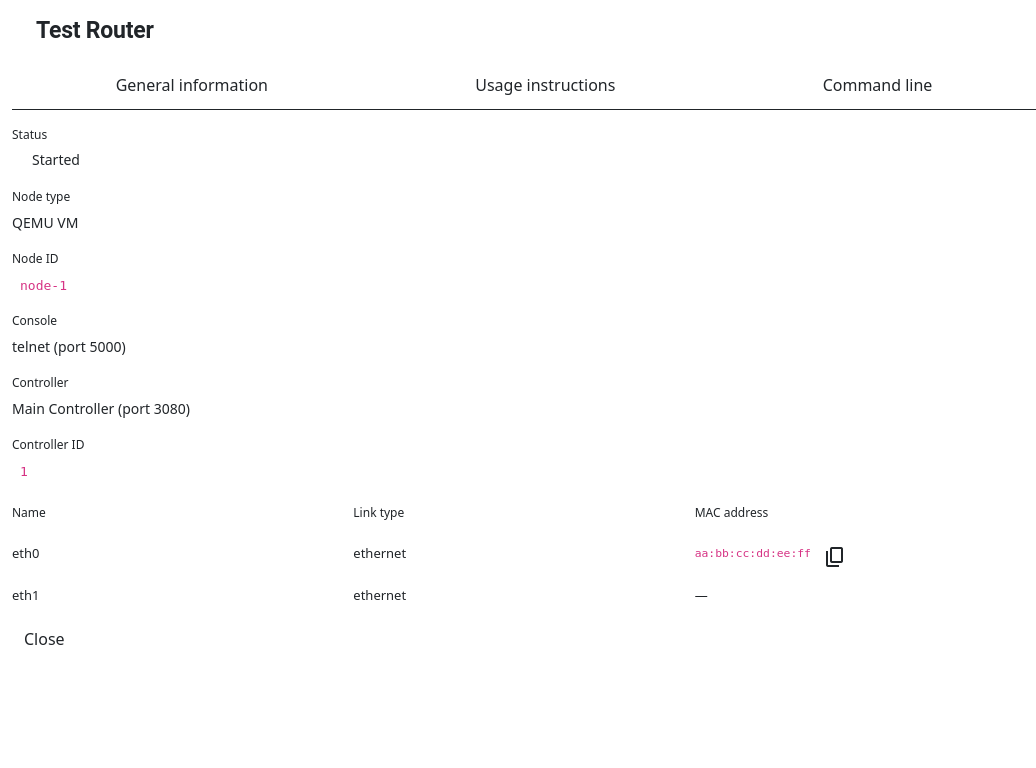
InfoDialogComponent › Usage instructions tab › should display default message when node has no usage
What coordinates should you click on to do the following:
click the tab "Usage instructions"
I would click on:
 (545, 85)
Its box is [475,74,615,96].
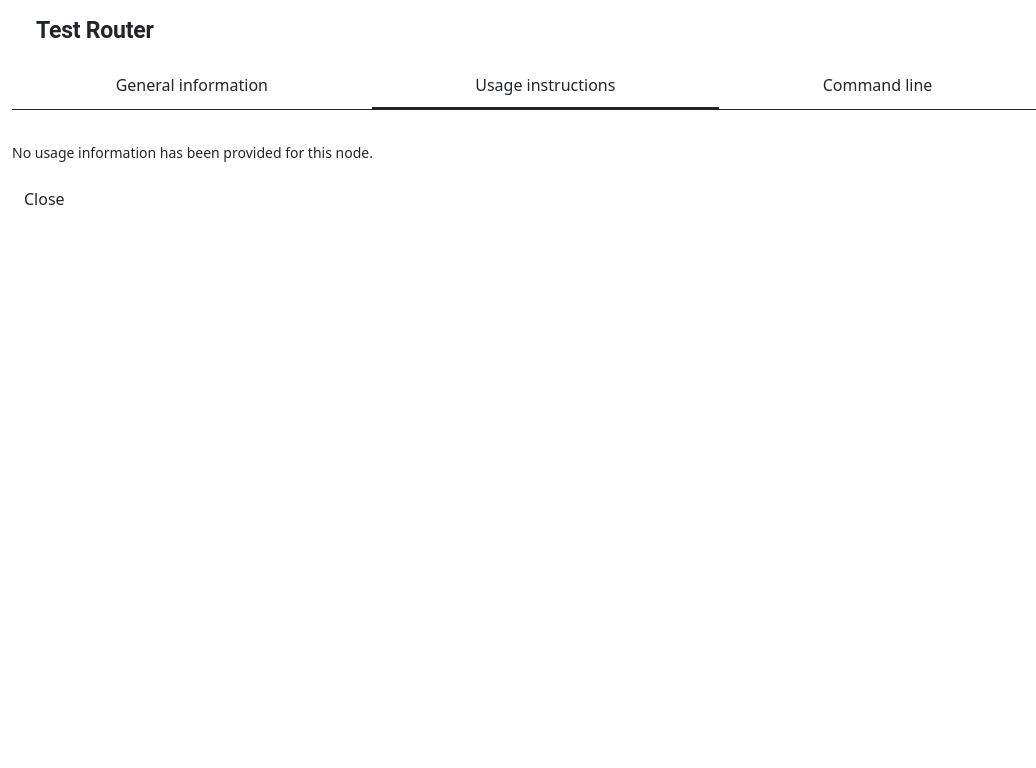
Expected: the text "No usage information has been provided for this node." is shown, [12,143,373,162]
